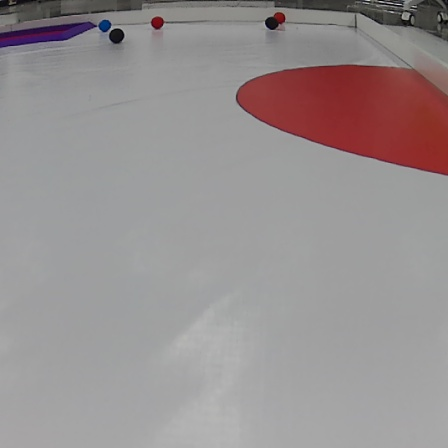black: (107, 28, 126, 44), (266, 16, 278, 32)
blue: (101, 20, 113, 32)
red: (149, 16, 166, 27), (276, 13, 285, 22)
red_aim: (0, 22, 101, 46)
red_base: (234, 64, 448, 176)
